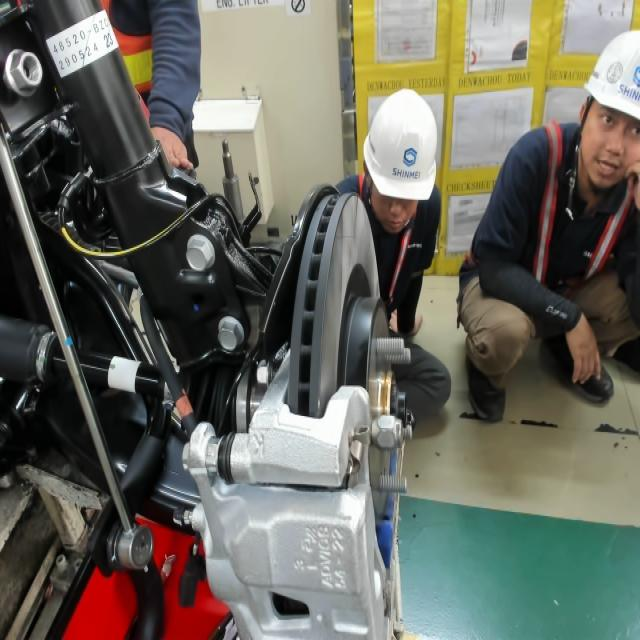Absorber LH-23: (101, 31, 118, 53)
Disc-HT: (338, 259, 397, 465)
Drive Shaft-PT: (105, 350, 144, 396)
